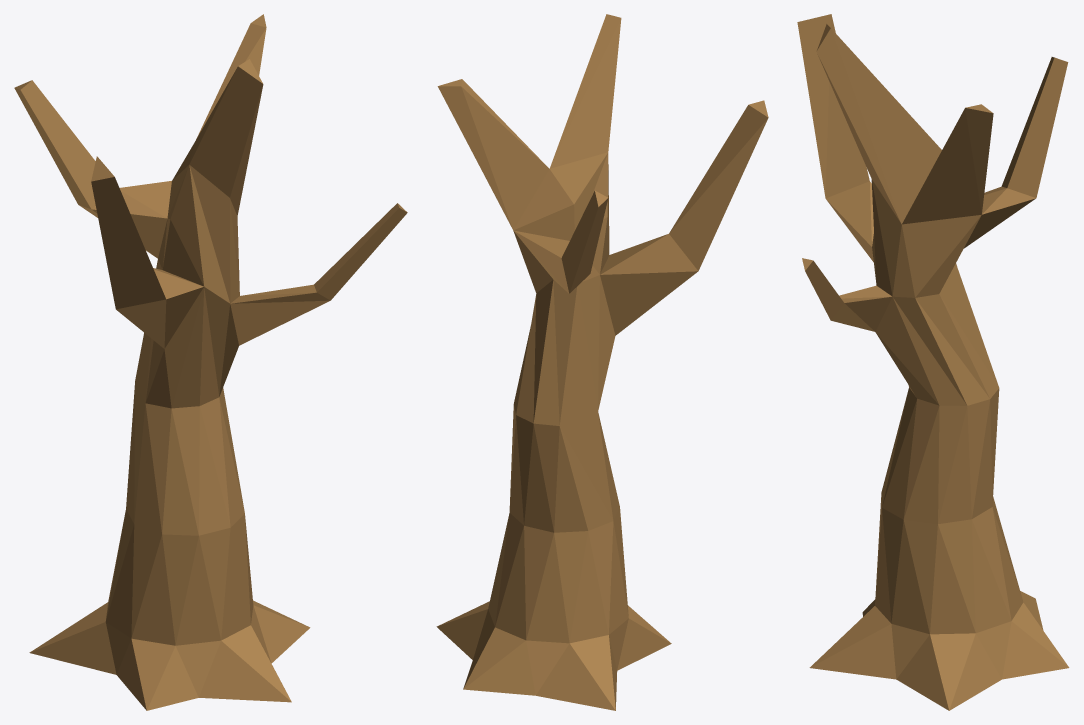
File: bare_tree.FBX
The picture shows the model from 3 angles, left to right: view 1: azimuth 30°, elevation 25°; view 2: azimuth 150°, elevation 25°; view 3: azimuth 270°, elevation 25°; orthographic projection. The views are drawn at different scales.
Parts seen in each view (by area): view 1: Object013; view 2: Object013; view 3: Object013.
Part boxes in pixels (x1,y1,x2,y2): Object013: (14,14,407,710); Object013: (436,14,768,710); Object013: (797,14,1069,710).
Bounding box in the file's own units: 13.84 × 27.33 × 10.78.
Materials: 1 (1 with a texture image).
